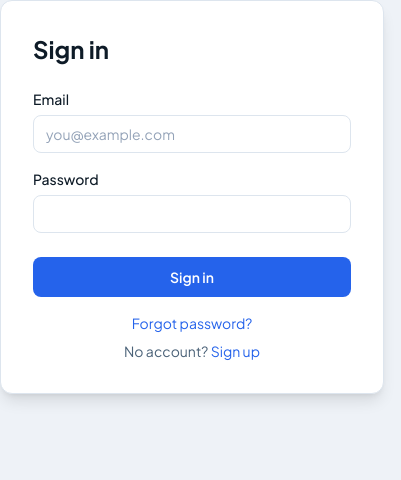
Test: LoginPage — EMAIL_NOT_VERIFIED error › shows "Please verify your email" for EMAIL_NOT_VERIFIED (403) detail
Type "a@b.com" into the field labelled "Email" at (192, 134), box [33, 115, 351, 153]
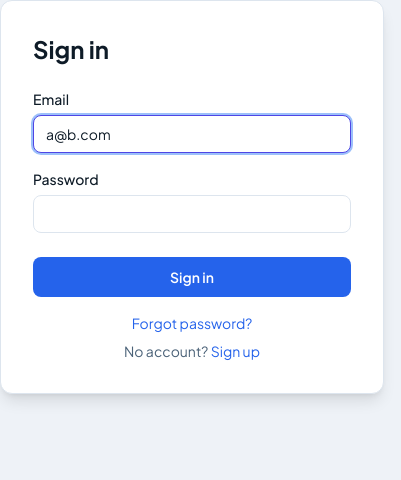
Type "pw" into the password field labelled "Password" at (192, 214), box [33, 195, 351, 233]
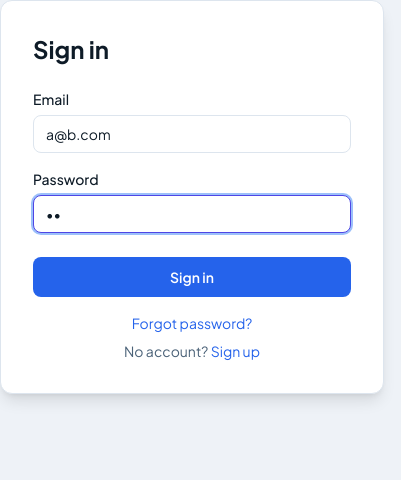
Click the button "Sign in" at (192, 277), box [33, 257, 351, 297]
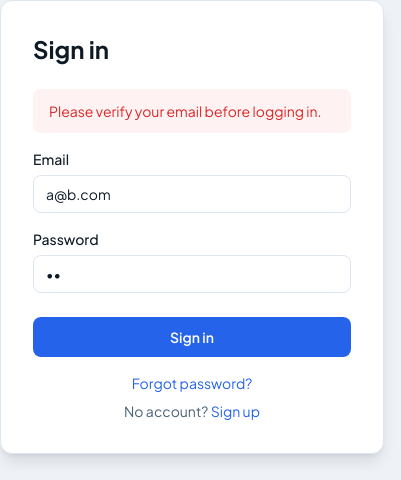
Expected: the message shows "Please verify your email", [49, 102, 322, 120]
